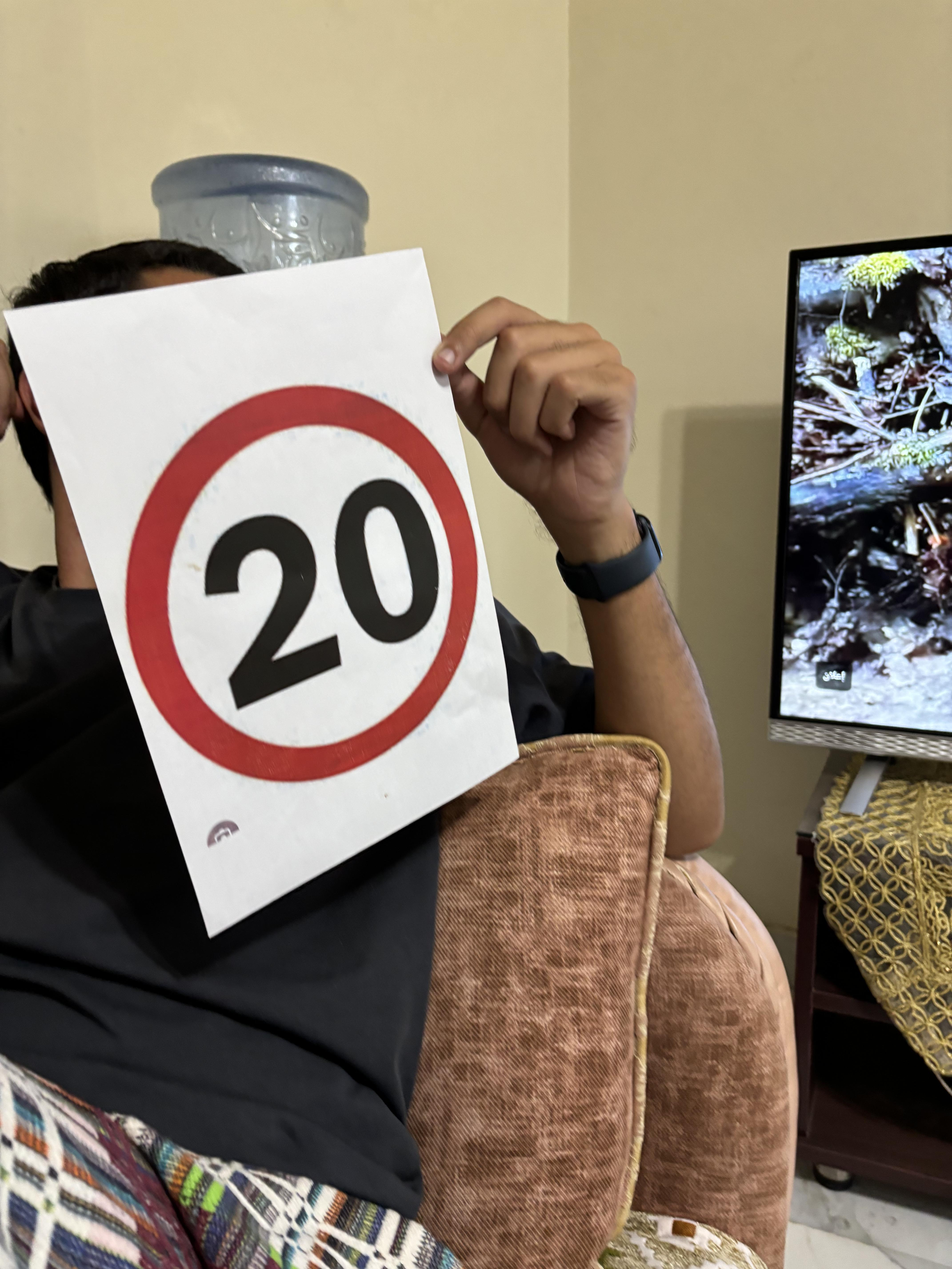20-Speed: (118, 376, 479, 764)
